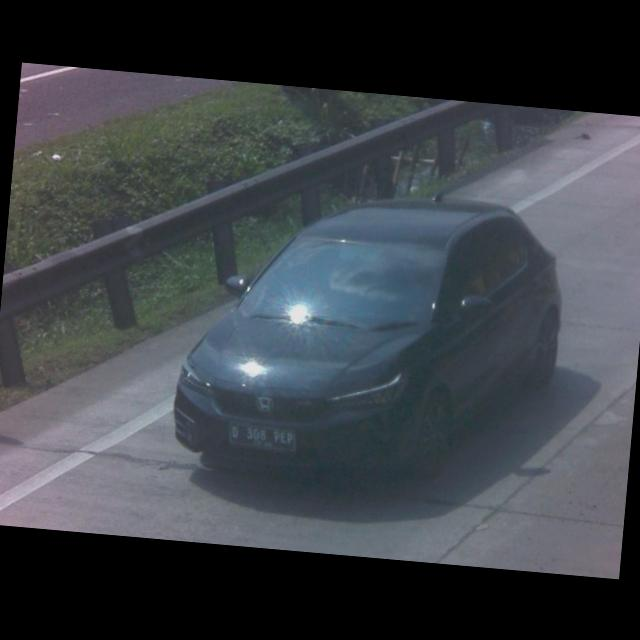plate: (226, 423, 296, 450)
